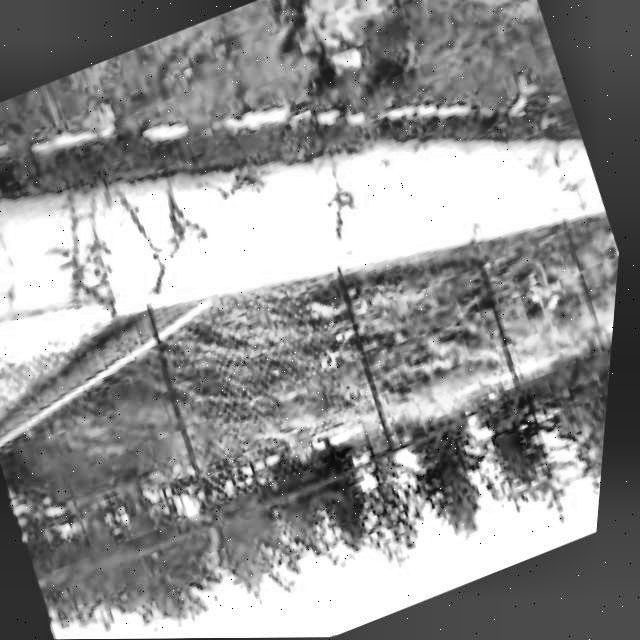Fire: (283, 0, 450, 60)
Smoke: (283, 0, 450, 60)
